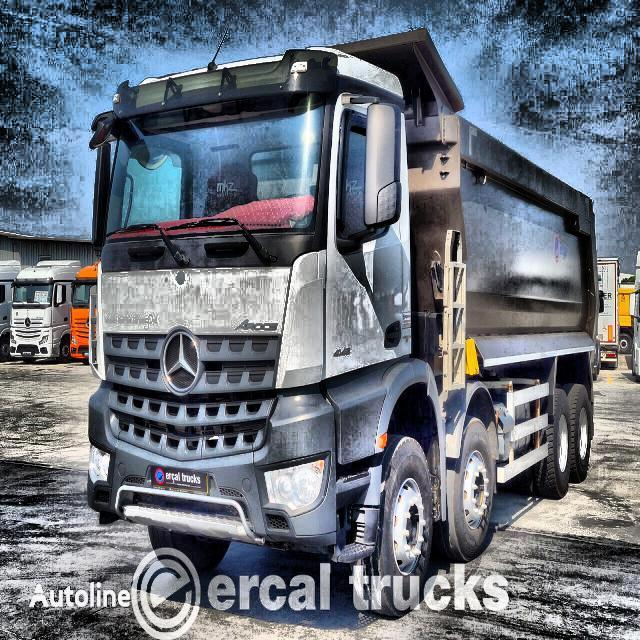dump_truck: (88, 28, 600, 620)
